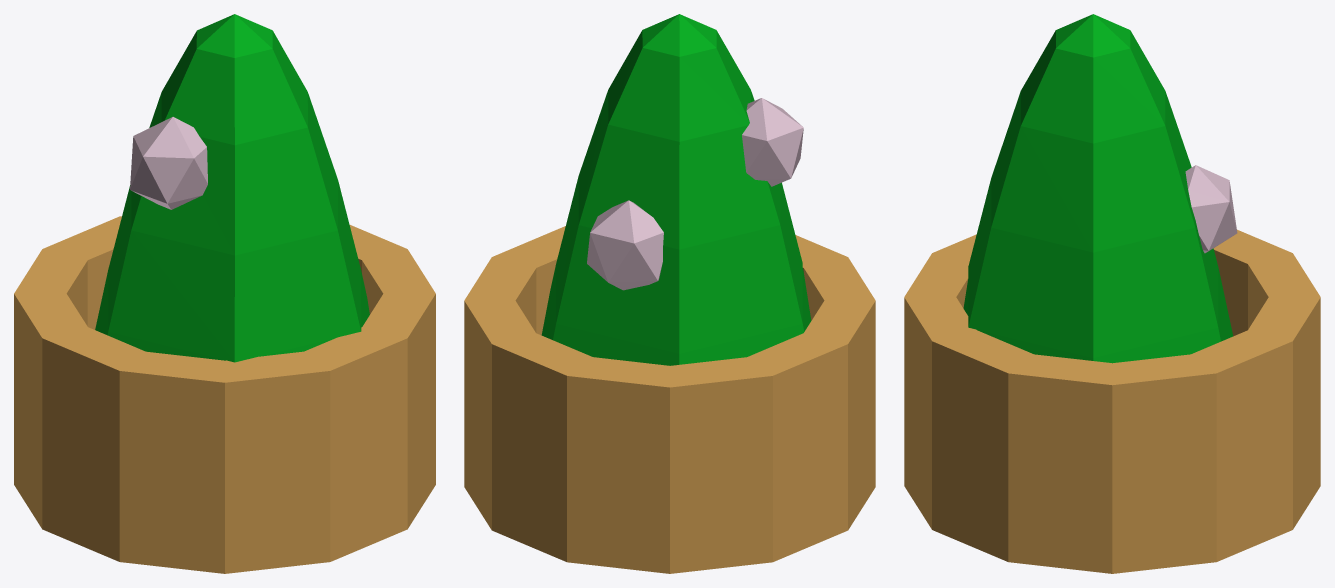
The model's file is plant_4.glb.
3 views of the same model, side by side, from view 1: azimuth 30°, elevation 25°; view 2: azimuth 150°, elevation 25°; view 3: azimuth 270°, elevation 25° (orthographic). The views are drawn at different scales.
Visible parts, largest first — view 1: Mesh_Mesh_head_geo.001_lambert2SG.001; view 2: Mesh_Mesh_head_geo.001_lambert2SG.001; view 3: Mesh_Mesh_head_geo.001_lambert2SG.001.
Part boxes in pixels (<box>): Mesh_Mesh_head_geo.001_lambert2SG.001: <box>14,14,435,573</box>; Mesh_Mesh_head_geo.001_lambert2SG.001: <box>464,14,875,573</box>; Mesh_Mesh_head_geo.001_lambert2SG.001: <box>904,14,1320,573</box>.
Bounding box in the file's own units: 1 × 1.25 × 1.
